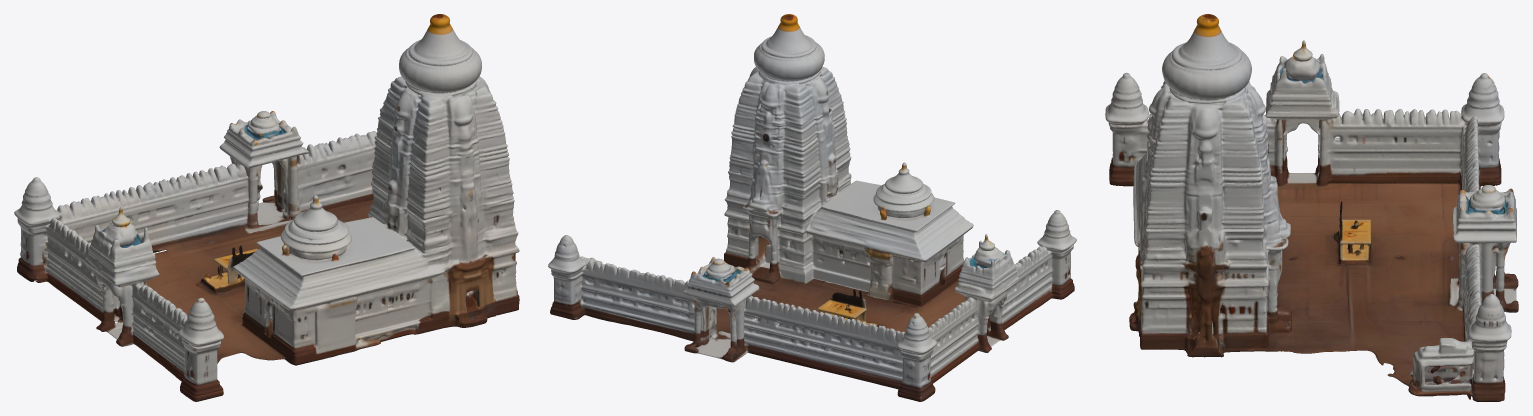
The model's file is jagannath_temple.glb.
3 views of the same model, side by side, from view 1: azimuth 30°, elevation 25°; view 2: azimuth 150°, elevation 25°; view 3: azimuth 270°, elevation 25° (orthographic). The views are drawn at different scales.
Parts seen in each view (by area): view 1: tripo_node_c8f942a3-cc5f-4f77-9784-ce461040692e; view 2: tripo_node_c8f942a3-cc5f-4f77-9784-ce461040692e; view 3: tripo_node_c8f942a3-cc5f-4f77-9784-ce461040692e.
Part boxes in pixels (x1,y1,x2,y2): tripo_node_c8f942a3-cc5f-4f77-9784-ce461040692e: (14, 14, 519, 401); tripo_node_c8f942a3-cc5f-4f77-9784-ce461040692e: (548, 14, 1076, 401); tripo_node_c8f942a3-cc5f-4f77-9784-ce461040692e: (1105, 14, 1518, 401).
Bounding box in the file's own units: 1 × 0.617 × 0.741.
1 material, 1 textured.
